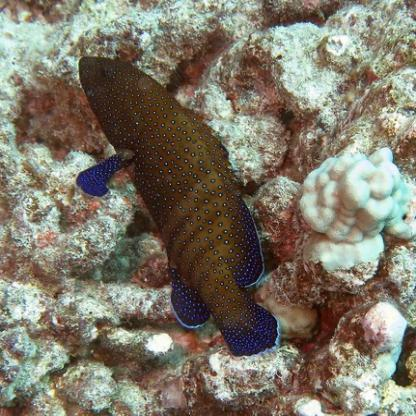Serranidae -Groupers-: (71, 55, 284, 359)
